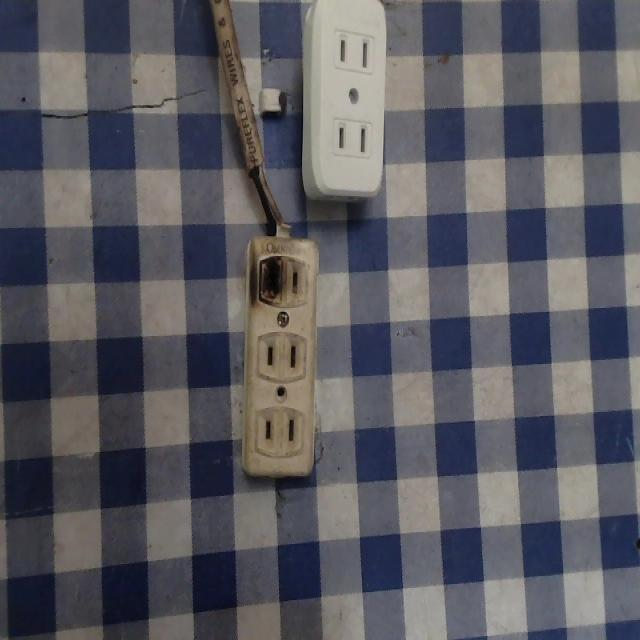-: (253, 252, 285, 308)
